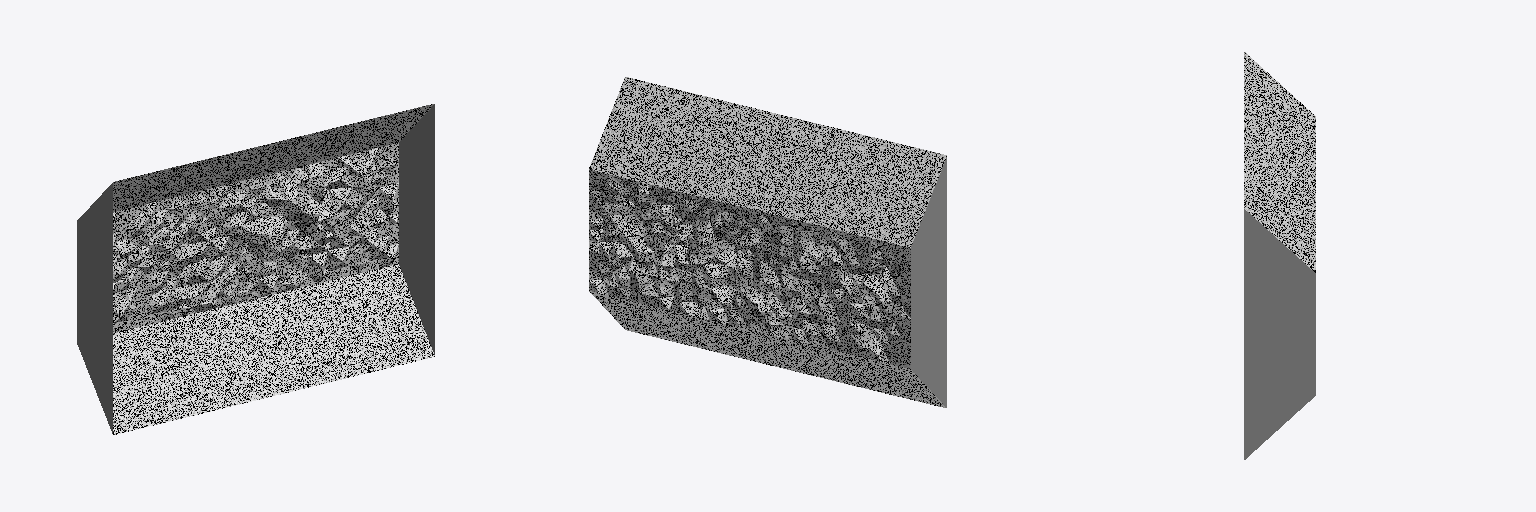
3 renders of one model, left to right at view 1: azimuth 30°, elevation 25°; view 2: azimuth 150°, elevation 25°; view 3: azimuth 270°, elevation 25°, orthographic.
Parts seen in each view (by area): view 1: RockyWall; view 2: RockyWall; view 3: RockyWall.
Boxes of the visible parts, box(x1,y1,x2,y2) form: RockyWall: box(77, 104, 434, 434); RockyWall: box(589, 77, 946, 407); RockyWall: box(1244, 52, 1315, 459).
Size of the model in its own units: 15.3 by 11.5 by 3.
Materials: 2 (1 with a texture image).